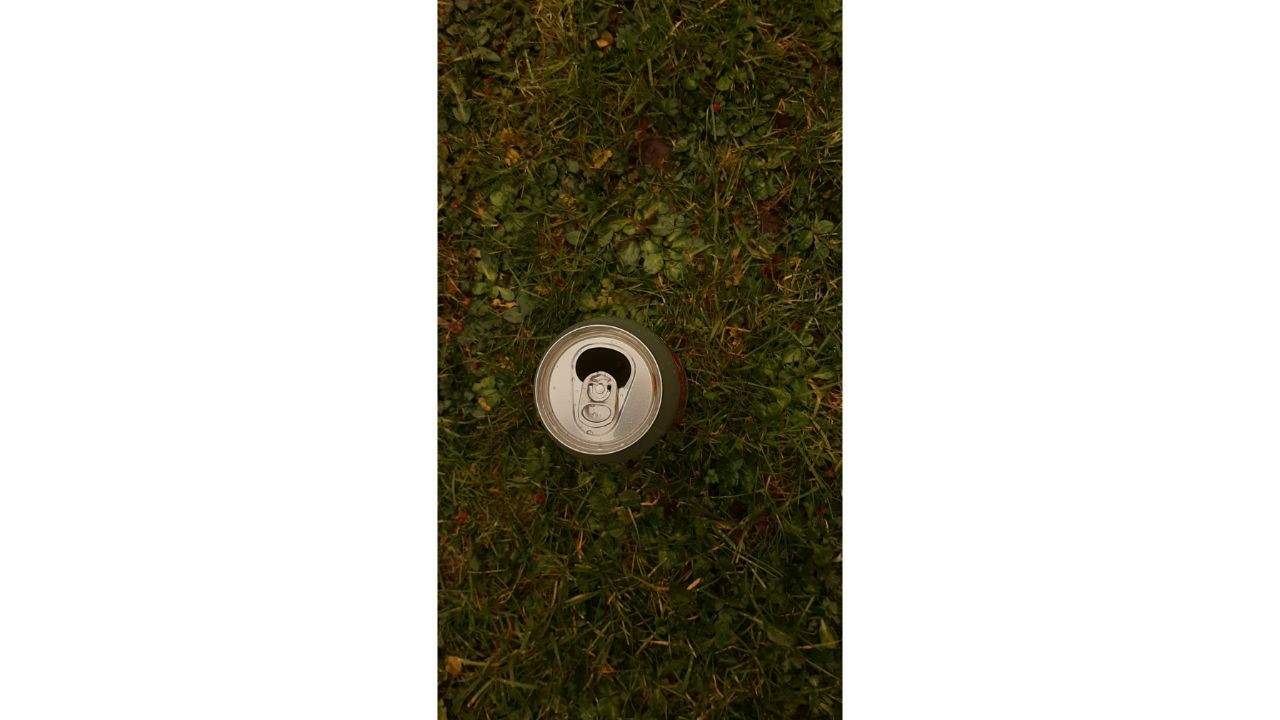Can: (527, 314, 693, 473)
